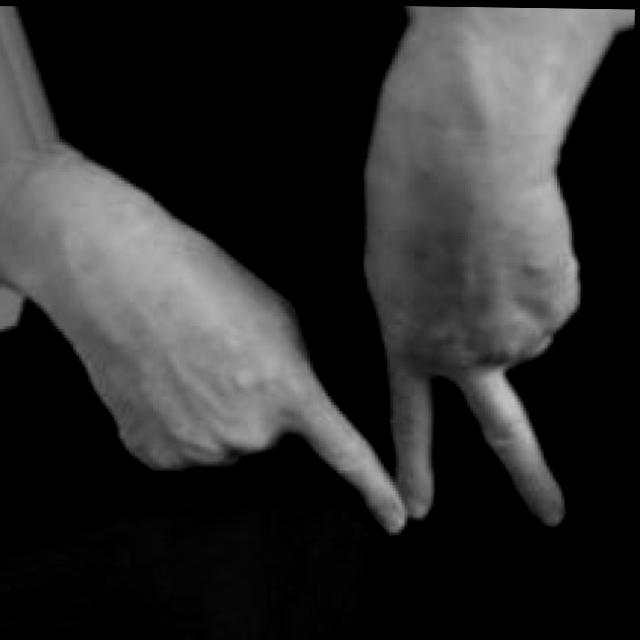N: (59, 138, 591, 547)
